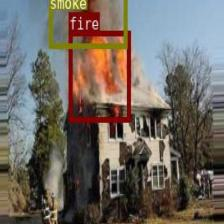fire: (68, 31, 130, 122)
smoke: (48, 0, 126, 47)
